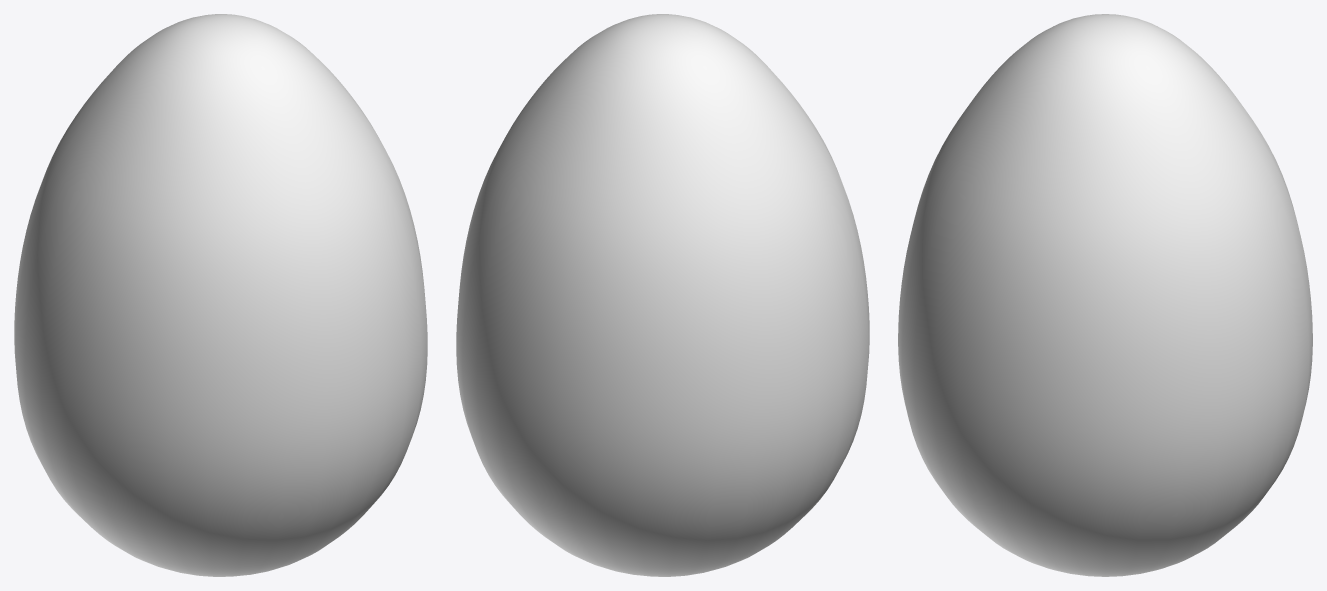
Rendered from new egg.glb.
The picture shows the model from 3 angles, left to right: view 1: azimuth 30°, elevation 25°; view 2: azimuth 150°, elevation 25°; view 3: azimuth 270°, elevation 25°; orthographic projection.
Parts seen in each view (by area): view 1: Cylinder001; view 2: Cylinder001; view 3: Cylinder001.
Part boxes in pixels (<box>): Cylinder001: <box>14,14,427,576</box>; Cylinder001: <box>456,14,869,576</box>; Cylinder001: <box>898,14,1312,576</box>.
Bounding box in the file's own units: 0.4021 × 0.5691 × 0.4021.
1 material, 1 textured.
